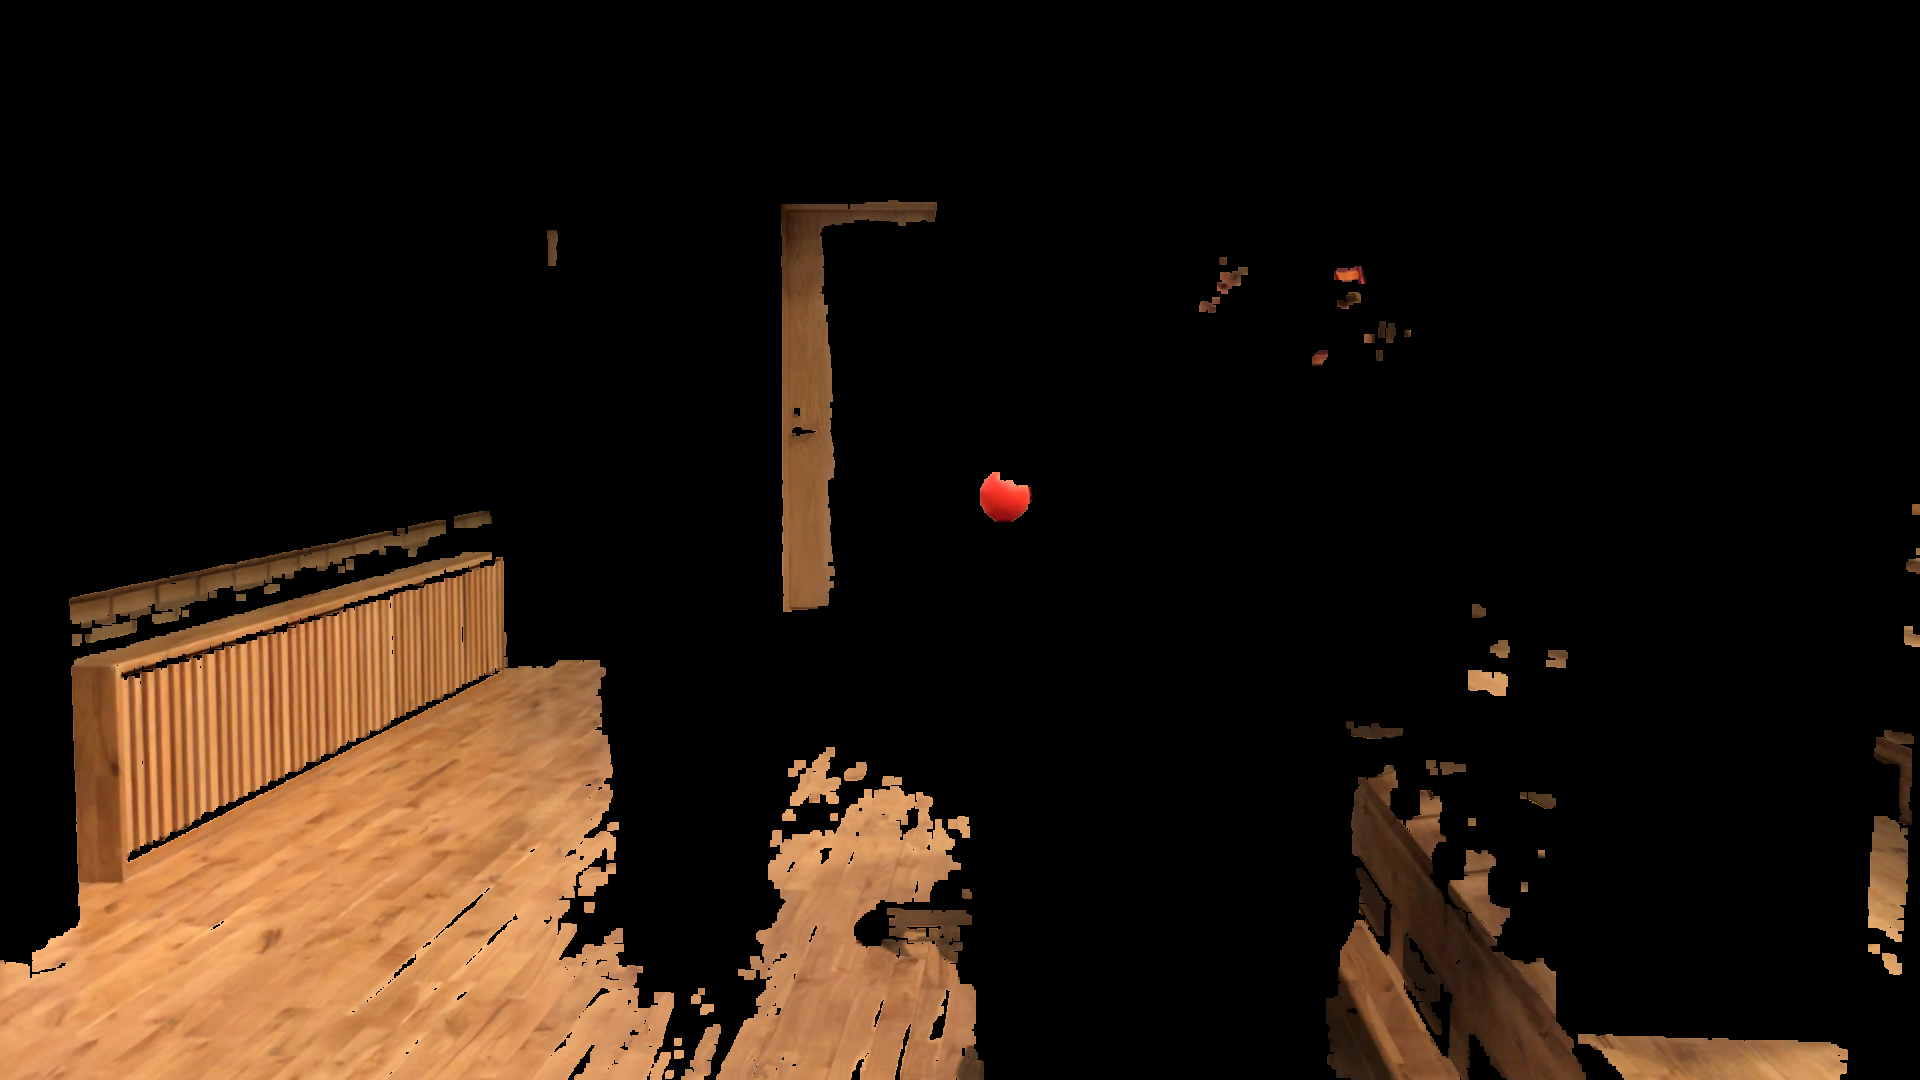Ball: (980, 465, 1030, 526)
